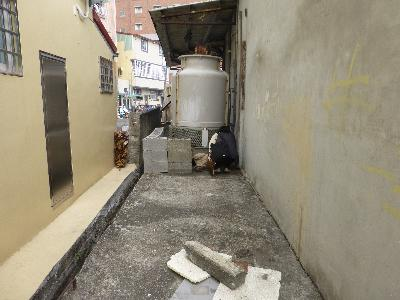water_tower: (168, 53, 231, 168)
